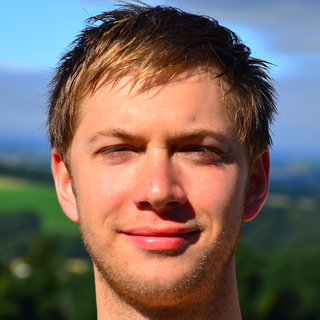eye: (175, 141, 227, 163), (93, 139, 142, 161)
